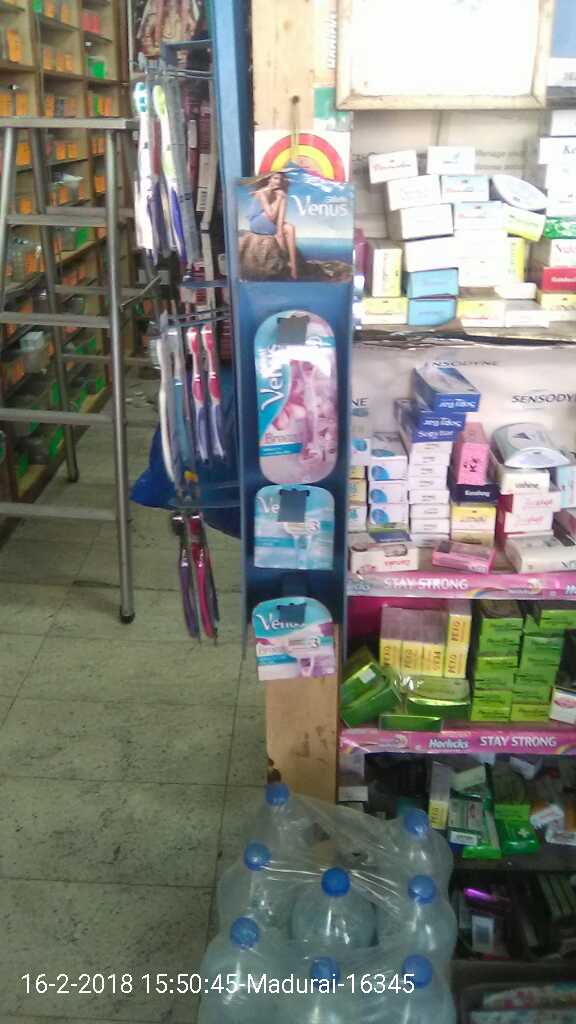venus: (255, 307, 338, 481), (259, 585, 341, 691), (246, 487, 335, 570)
